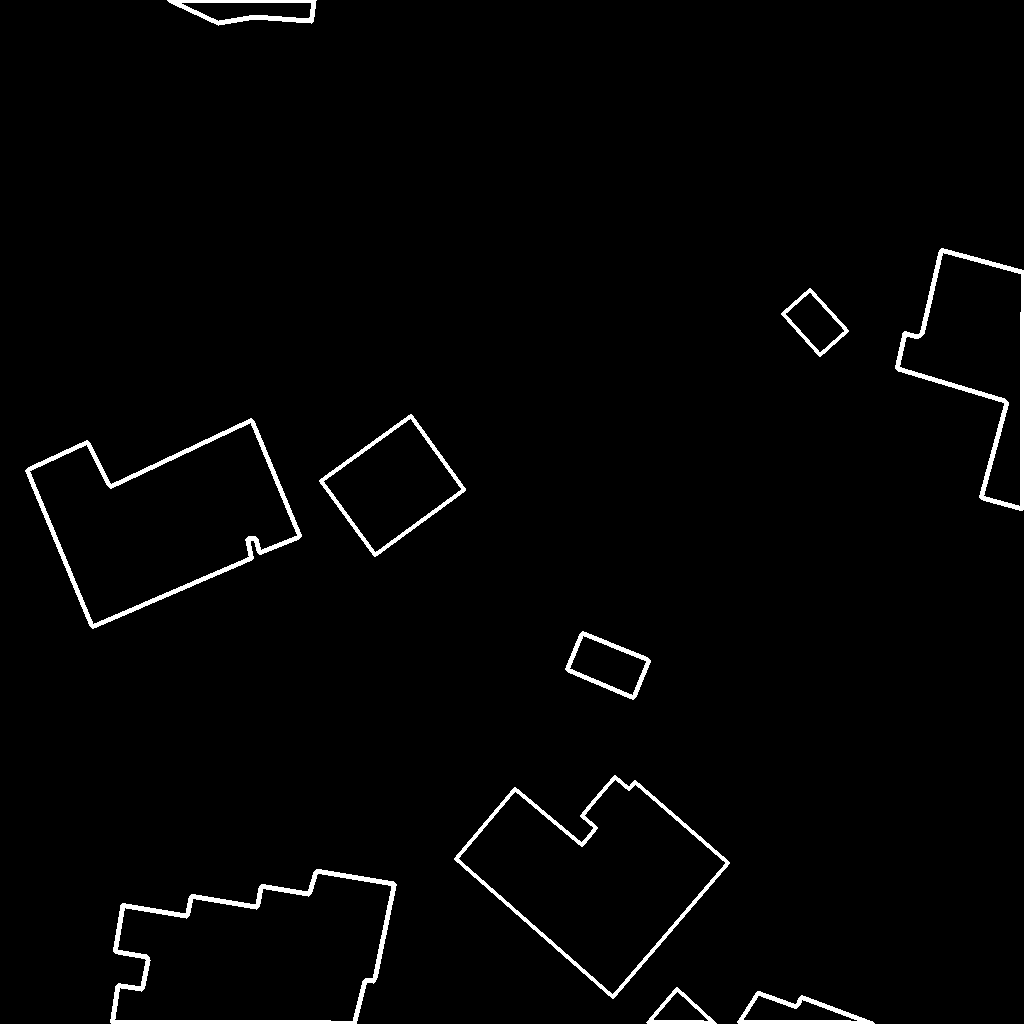building: (456, 777, 729, 998), (27, 420, 301, 628), (112, 871, 396, 1024), (897, 250, 1024, 510), (321, 416, 465, 556), (648, 989, 874, 1024), (567, 633, 650, 699), (783, 290, 848, 356), (168, 0, 315, 24)
